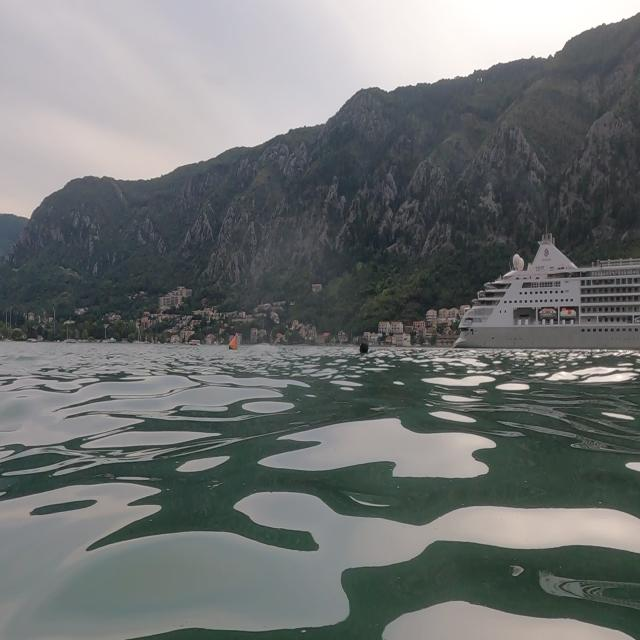boat: (452, 225, 638, 353)
buoy: (224, 332, 247, 357), (357, 331, 372, 361)
